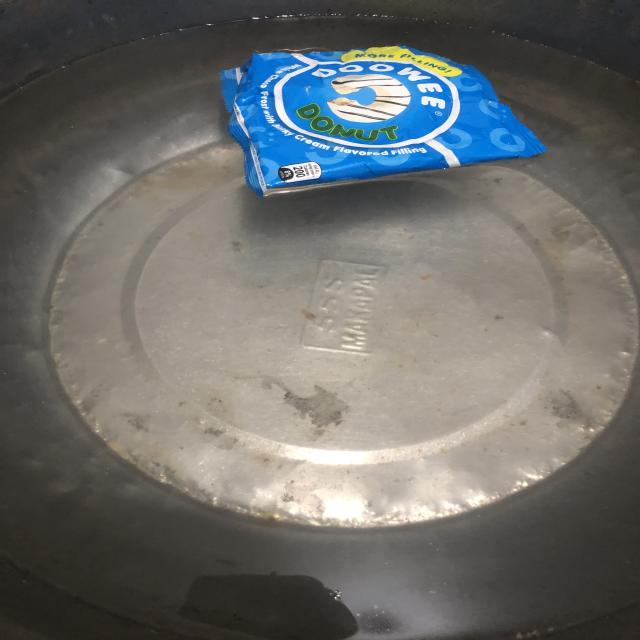Plastic Wrapper: (197, 35, 567, 203)
